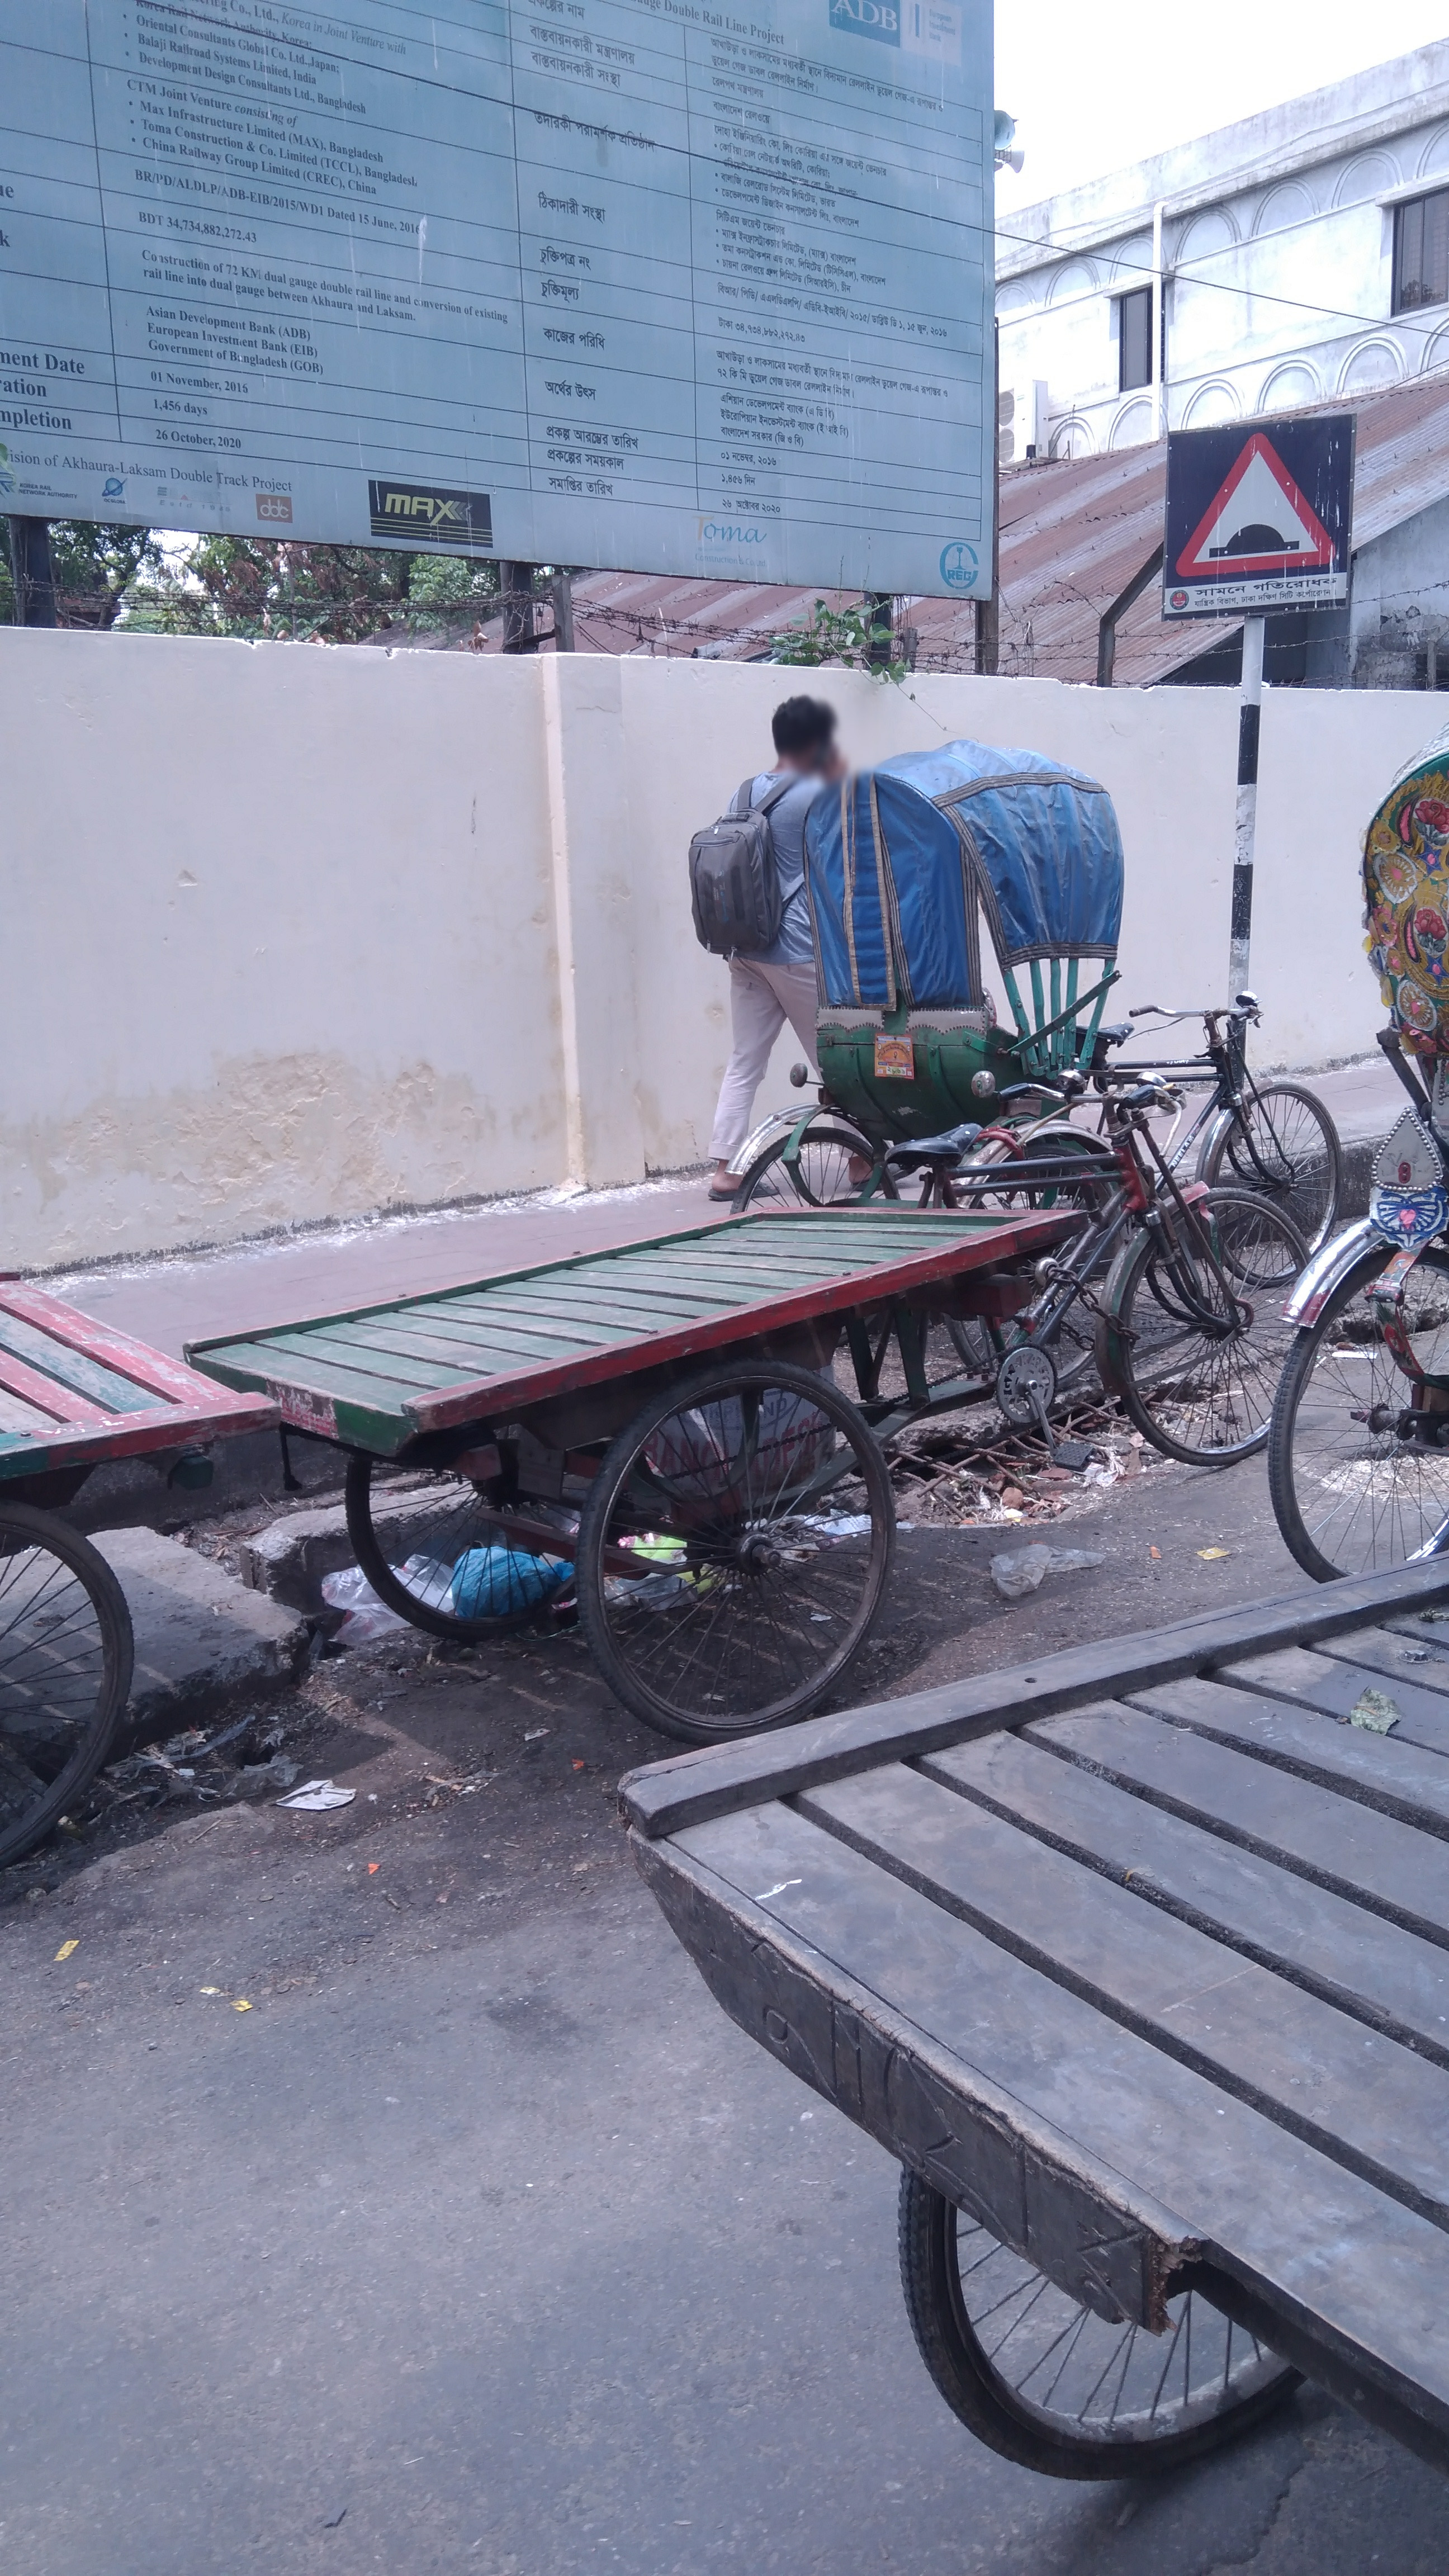rickshaw: (708, 747, 1339, 1274), (1256, 736, 1444, 1578)
van: (193, 1070, 1323, 1753), (617, 1550, 1449, 2477), (0, 1267, 294, 1881)
